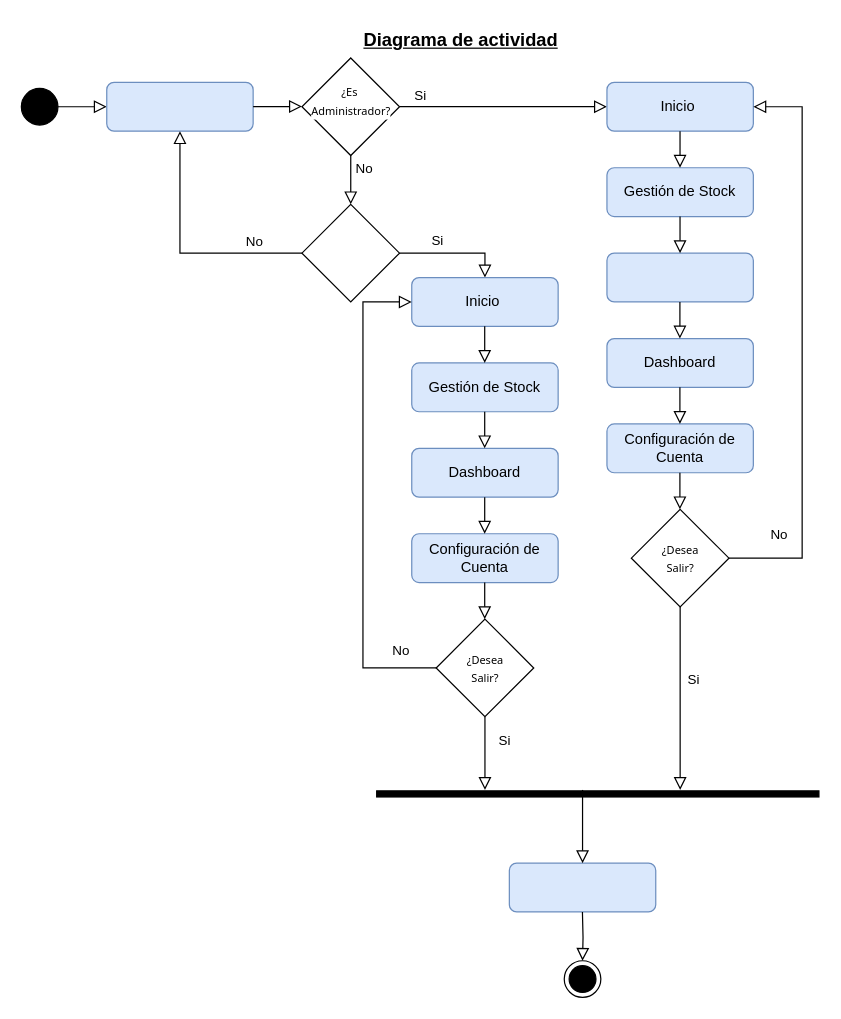
Image size: 841x1019. Some labels were removed from this diagram. Each missing label, with the box of its shape:
Gestión de Empleados: (606, 252, 753, 302)
Iniciar Sesión: (106, 81, 253, 131)
Salir: (508, 862, 656, 912)
¿Es Empleado?: (301, 203, 400, 302)
